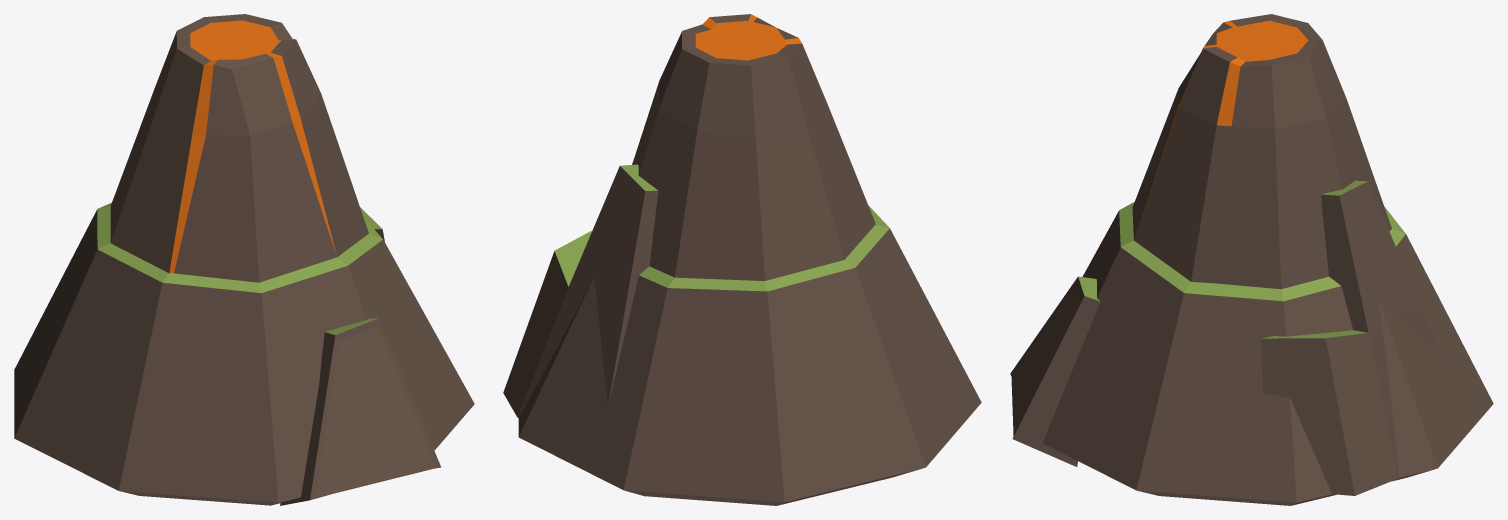
File: vulcano01.fbx
The picture shows the model from 3 angles, left to right: view 1: azimuth 30°, elevation 25°; view 2: azimuth 150°, elevation 25°; view 3: azimuth 270°, elevation 25°; orthographic projection.
Parts seen in each view (by area): view 1: vulcano_01; view 2: vulcano_01; view 3: vulcano_01.
Part boxes in pixels (x1,y1,x2,y2): vulcano_01: (14, 14, 474, 505); vulcano_01: (503, 14, 981, 505); vulcano_01: (1010, 14, 1493, 505).
Size of the model in its own units: 39.04 by 40.23 by 35.56.
